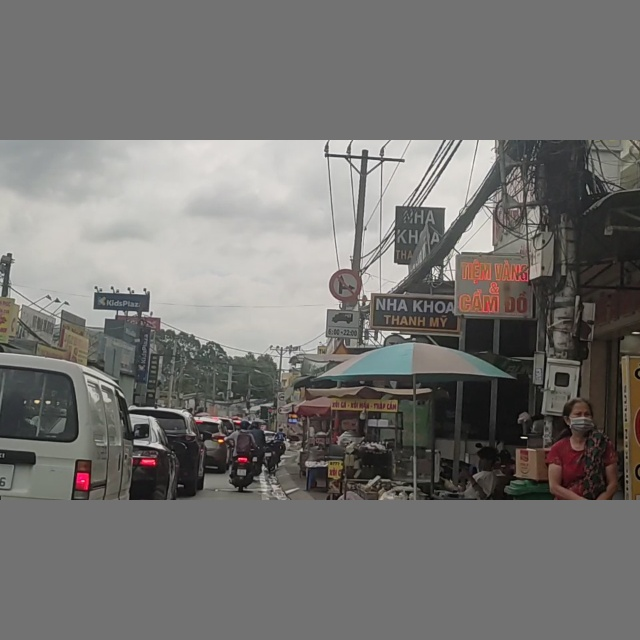P.139: (328, 268, 363, 301)
S.505a*Xe tai: (325, 309, 361, 338)
